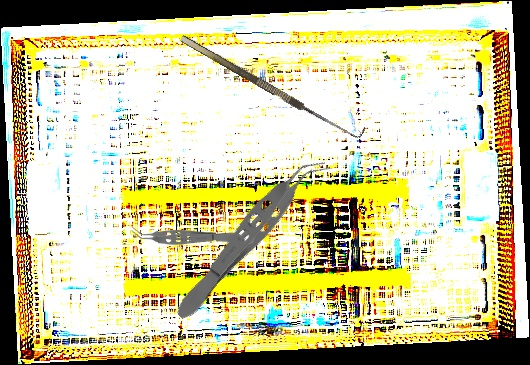Hook Surgical: (179, 25, 367, 144)
Tissue Forceps: (167, 146, 332, 328), (129, 226, 245, 246)
